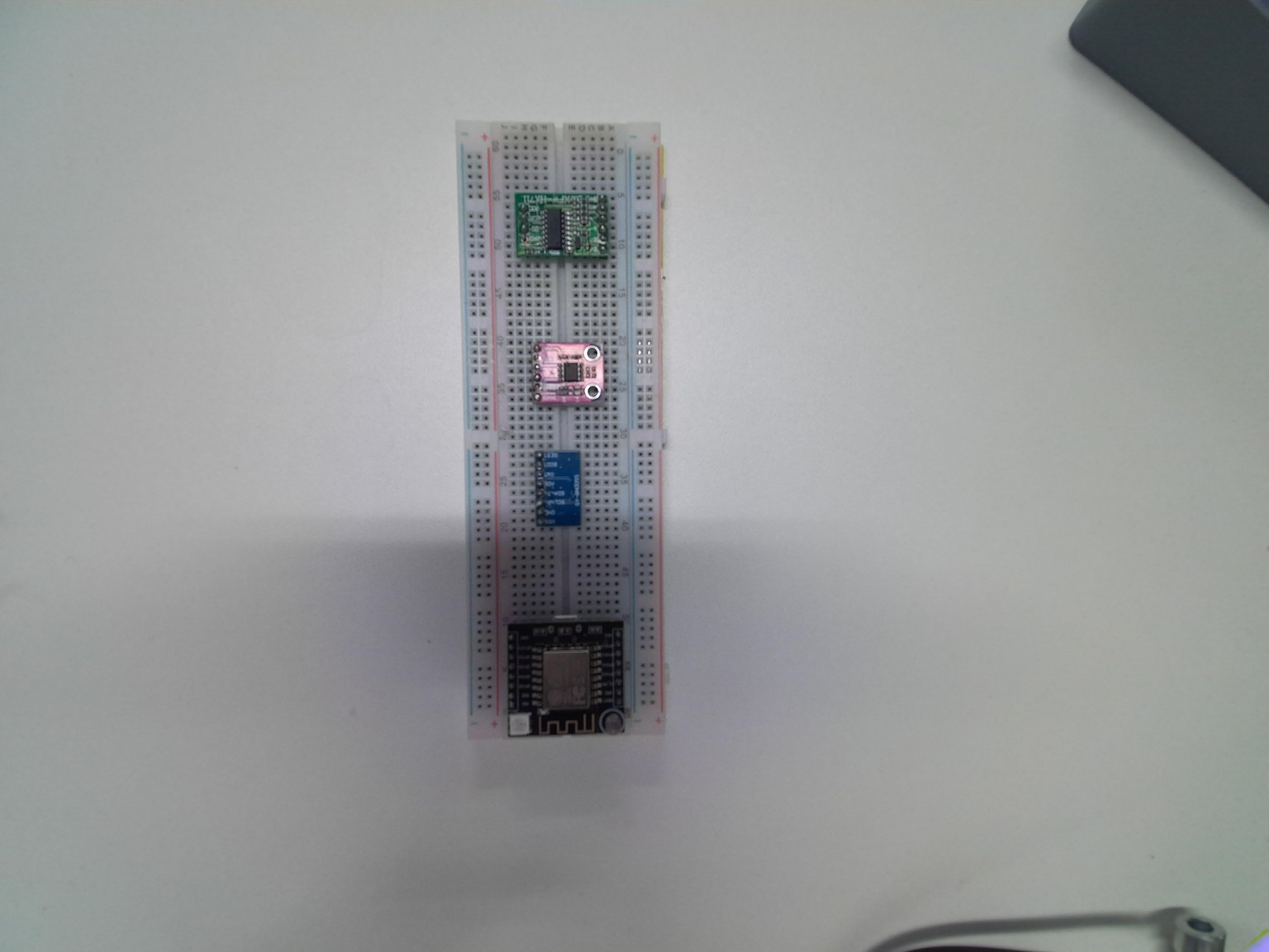base: (454, 118, 667, 736)
blue-board: (530, 447, 586, 529)
esp: (506, 618, 625, 737)
green-board: (511, 188, 615, 262)
purple-board: (528, 341, 604, 409)
